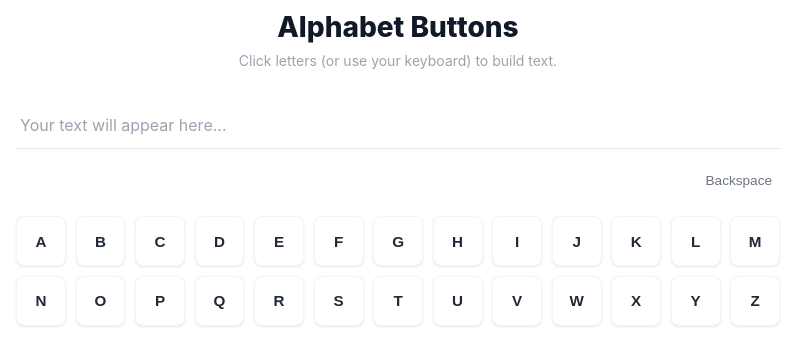
Test case: Alphabet Buttons App › should allow clicking on alphabet buttons to update output
Click the button "A" at (41, 241), box x1=16 y1=216 x2=66 y2=266
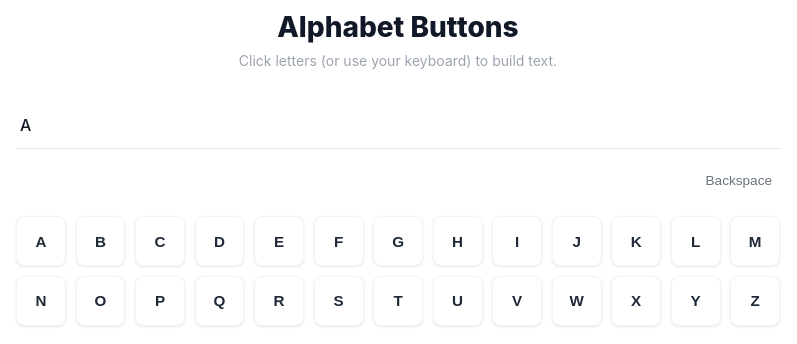
Click the button "B" at (101, 241), box x1=76 y1=216 x2=126 y2=266
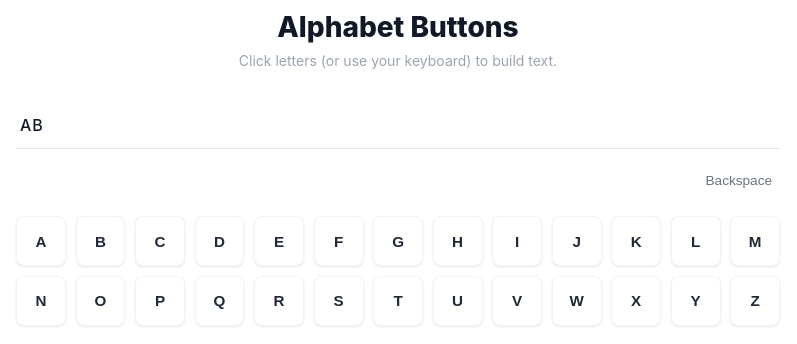
Now the element with class "output" reads "AB", box x1=16 y1=101 x2=780 y2=149
